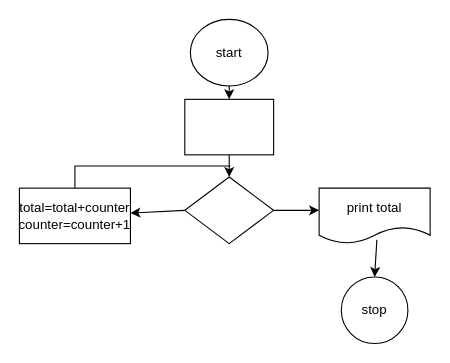
Image size: 450x363. Some labels were removed from this diagram. Here are the shapes that lost their labels. From the top down, the centre of each, then its label:
the point at 229,126: total=0 counter=1
the point at 229,210: counter>100
